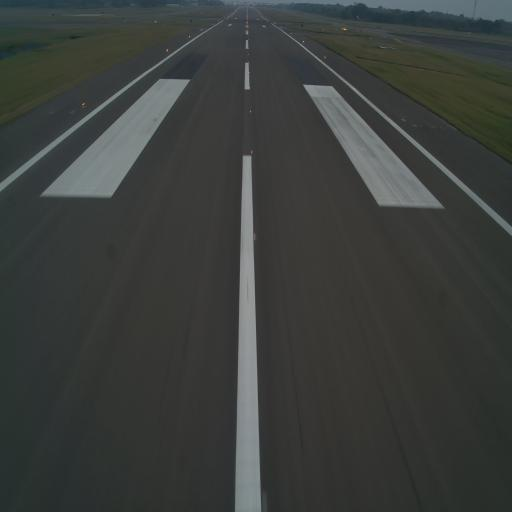off: (399, 116, 406, 126)
on: (251, 232, 257, 242), (81, 98, 86, 110), (249, 106, 253, 117), (249, 148, 253, 156), (166, 47, 169, 55), (324, 54, 326, 60), (249, 86, 251, 90), (248, 71, 250, 75), (248, 60, 250, 64), (248, 52, 250, 56)
